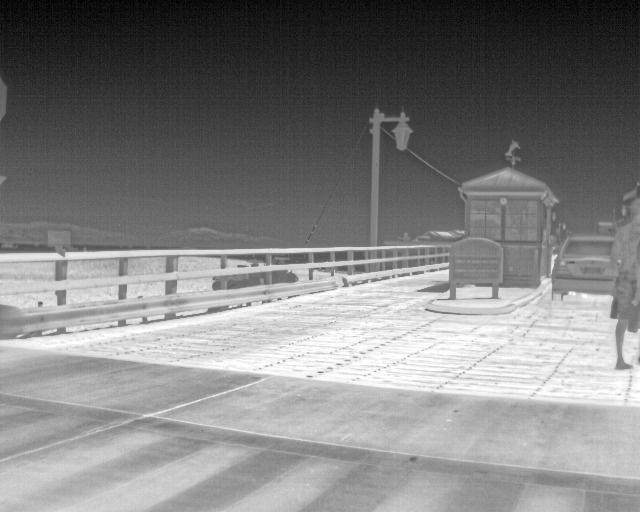bicycle: (548, 235, 617, 301)
empty: (603, 195, 639, 371)
